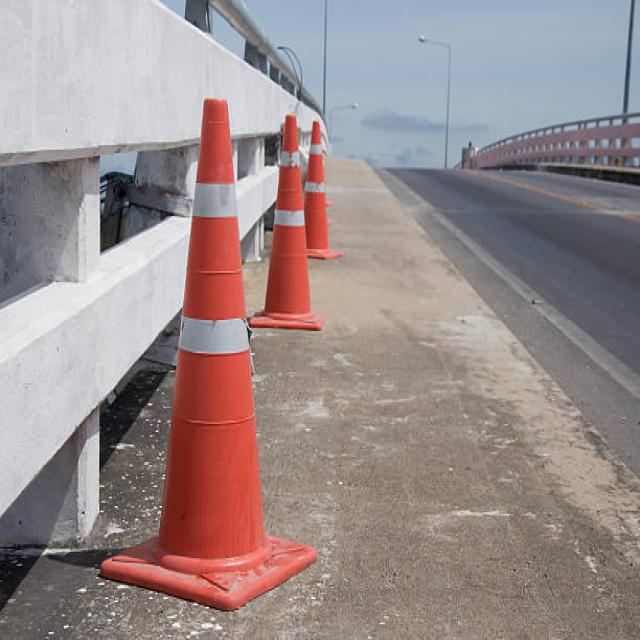Traffic Cone: (86, 54, 337, 640)
